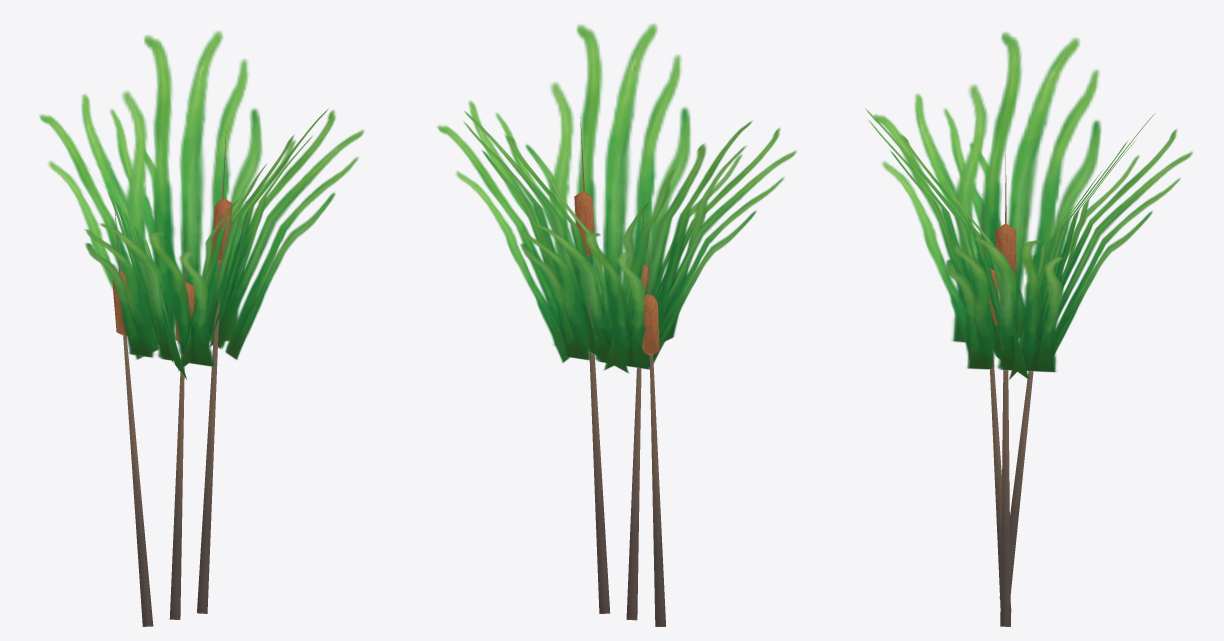
The picture shows the model from 3 angles, left to right: view 1: azimuth 30°, elevation 25°; view 2: azimuth 150°, elevation 25°; view 3: azimuth 270°, elevation 25°; orthographic projection.
Visible parts, largest first — view 1: Box01, stalks, tails; view 2: Box01, stalks, tails; view 3: Box01, stalks, tails.
Boxes of the visible parts, x1=… form: Box01: x1=39, y1=30, x2=364, y2=380; stalks: x1=114, y1=125, x2=226, y2=626; tails: x1=112, y1=198, x2=232, y2=341; Box01: x1=437, y1=23, x2=796, y2=373; stalks: x1=580, y1=117, x2=665, y2=626; tails: x1=574, y1=191, x2=659, y2=355; Box01: x1=865, y1=31, x2=1193, y2=380; stalks: x1=982, y1=154, x2=1053, y2=626; tails: x1=977, y1=223, x2=1034, y2=325.
Bounding box in the file's own units: 164 × 256 × 159.
Materials: 3 (3 with a texture image).
